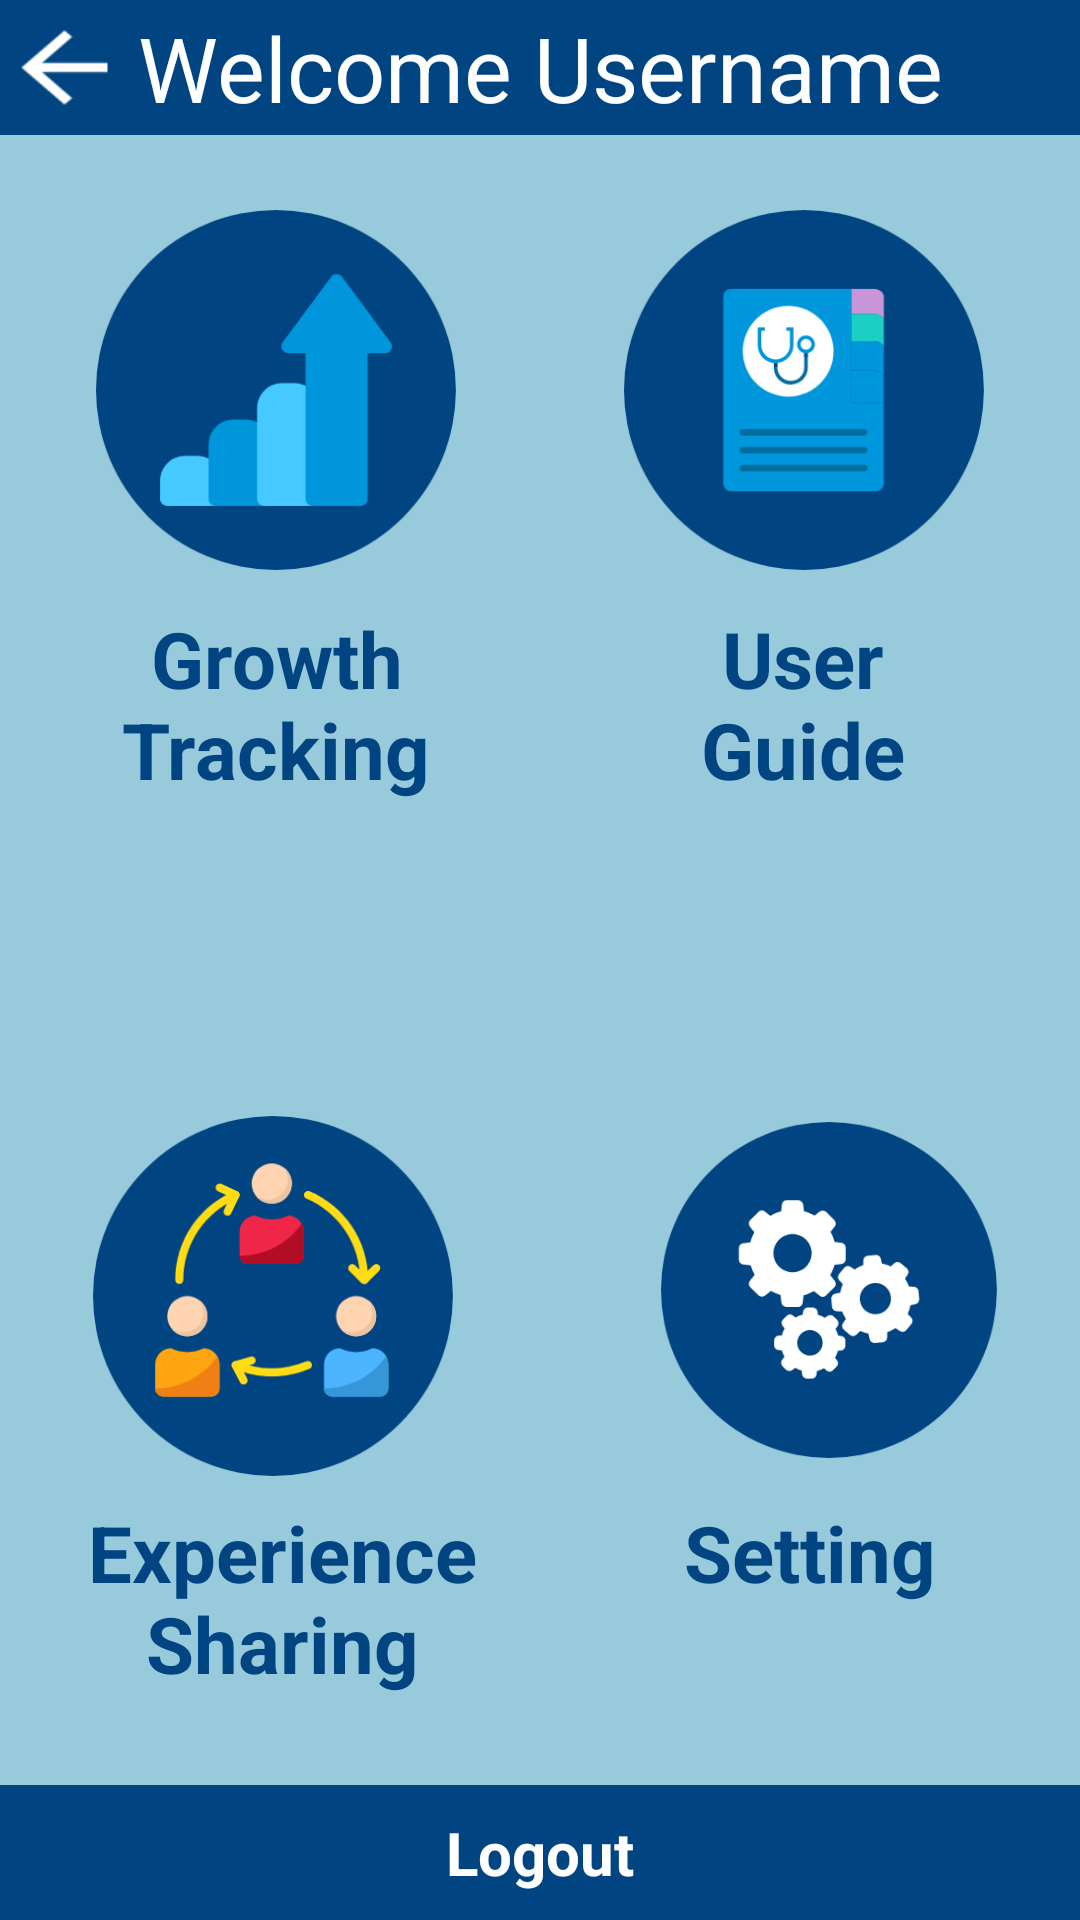

Screen size 1080×1920. Icon name, then its center in pixels as (x,y):
back: (64,67)
